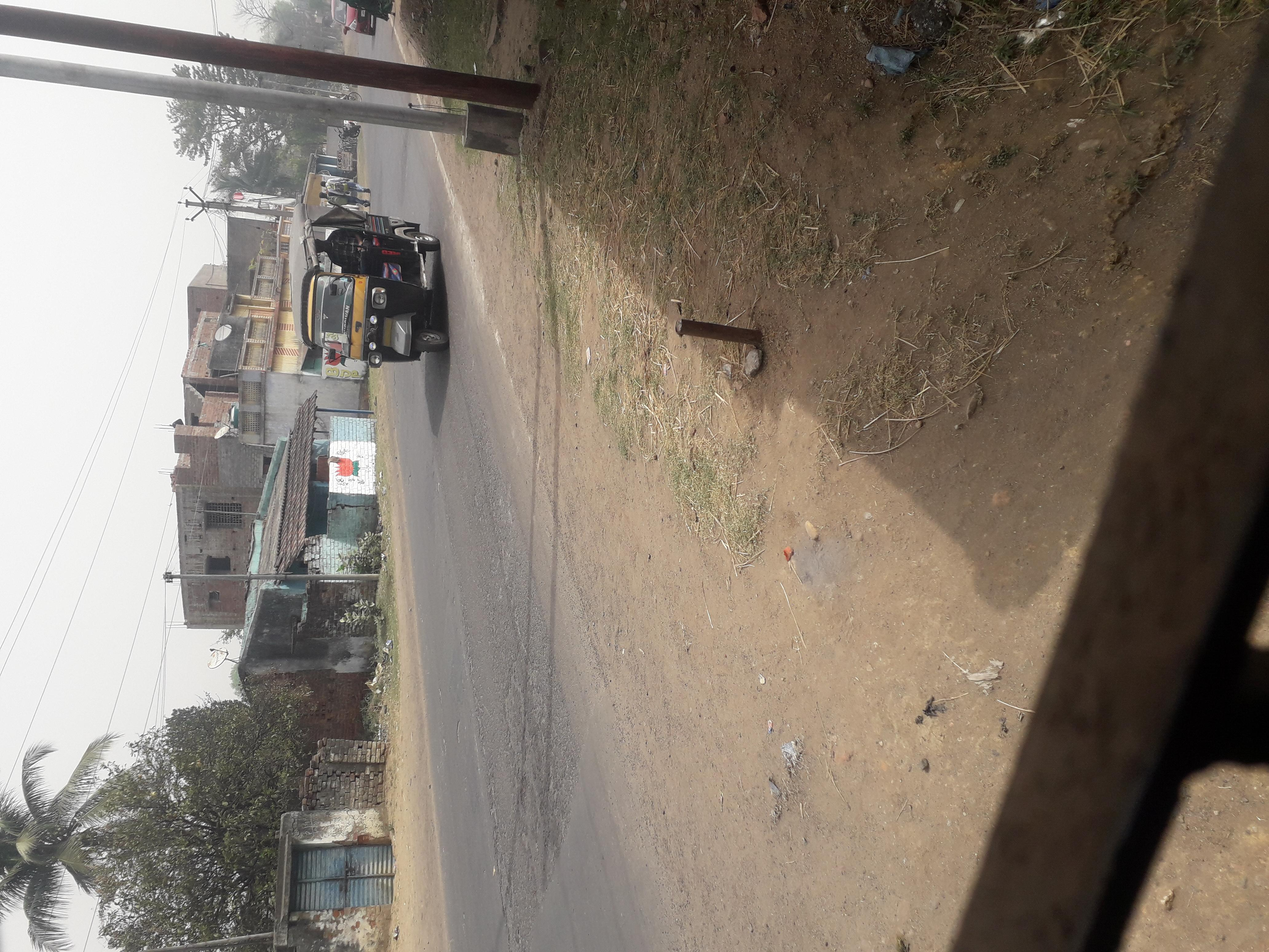Auto: (766, 214, 1012, 362)
